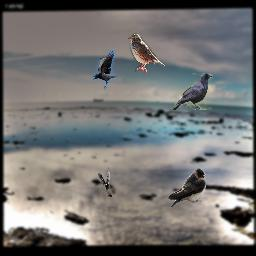Crow: (173, 73, 213, 110), (92, 50, 118, 90)
Sparrow: (128, 33, 165, 73)
Swallow: (168, 168, 206, 208), (98, 167, 112, 197)
